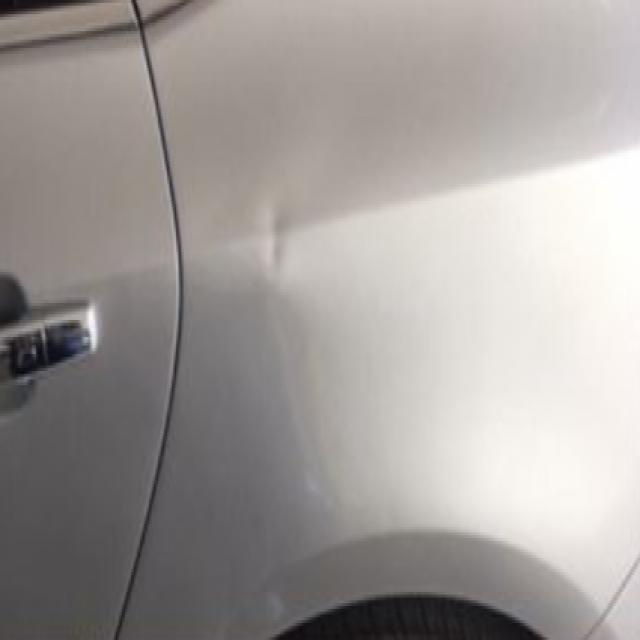dents: (252, 179, 315, 317)
